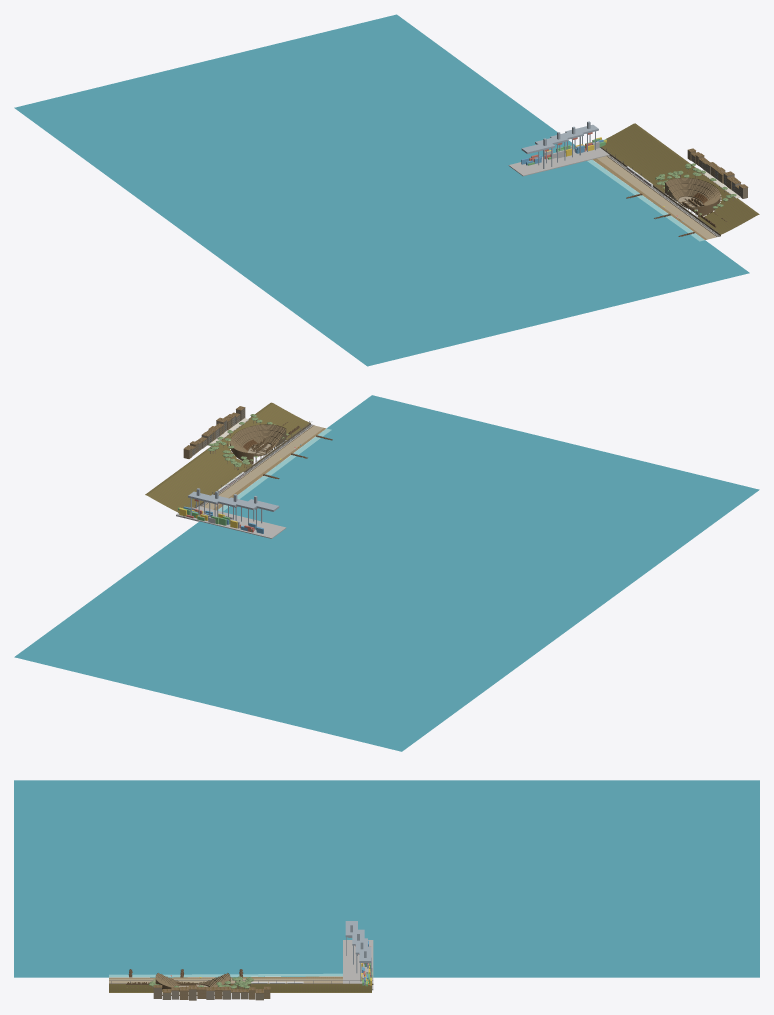
The model's file is lugar-tarragona.glb.
3 views of the same model, one above another, from view 1: azimuth 30°, elevation 25°; view 2: azimuth 150°, elevation 25°; view 3: azimuth 270°, elevation 25° (orthographic). The views are drawn at different scales.
Parts seen in each view (by area): view 1: lugar-tarragona, suelo-tarragona; view 2: lugar-tarragona, suelo-tarragona; view 3: lugar-tarragona, suelo-tarragona.
Boxes of the visible parts, bbox=[...] form: lugar-tarragona: bbox=[14, 14, 749, 366]; suelo-tarragona: bbox=[592, 123, 759, 239]; lugar-tarragona: bbox=[14, 395, 759, 751]; suelo-tarragona: bbox=[145, 402, 325, 514]; lugar-tarragona: bbox=[14, 780, 759, 1000]; suelo-tarragona: bbox=[109, 976, 371, 992].
Size of the model in its own units: 809 by 49.7 by 1100.
Materials: 44 (15 with a texture image).
